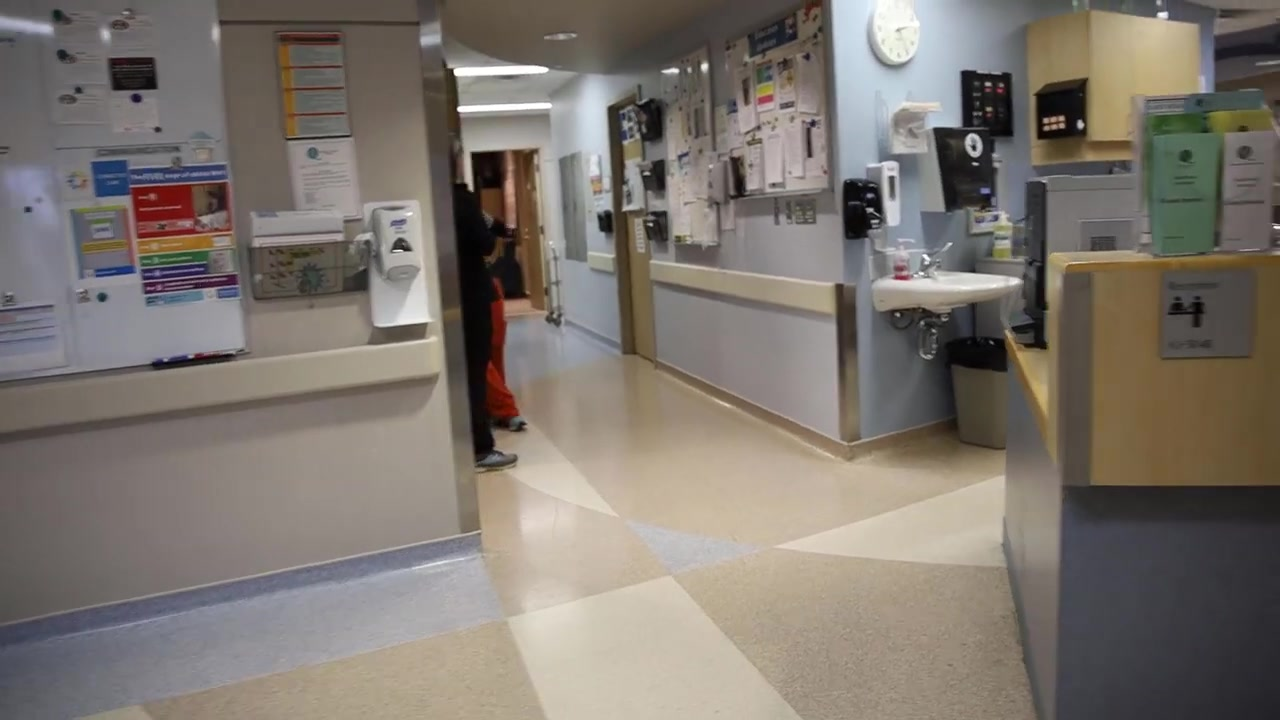cabinet: (1027, 13, 1200, 169)
counter: (1001, 244, 1280, 720)
countertop: (1040, 241, 1280, 293)
dispenser: (364, 201, 431, 330), (919, 123, 999, 216), (865, 161, 901, 236), (841, 176, 880, 243), (702, 164, 729, 208), (892, 239, 915, 280), (993, 215, 1011, 258)
faucet: (917, 242, 953, 278)
hallway_assist_bar: (2, 311, 453, 420), (650, 261, 837, 321)
person: (450, 151, 517, 478), (482, 204, 529, 434)
sink: (870, 269, 1023, 316)
waste_bin: (945, 335, 1007, 450)
